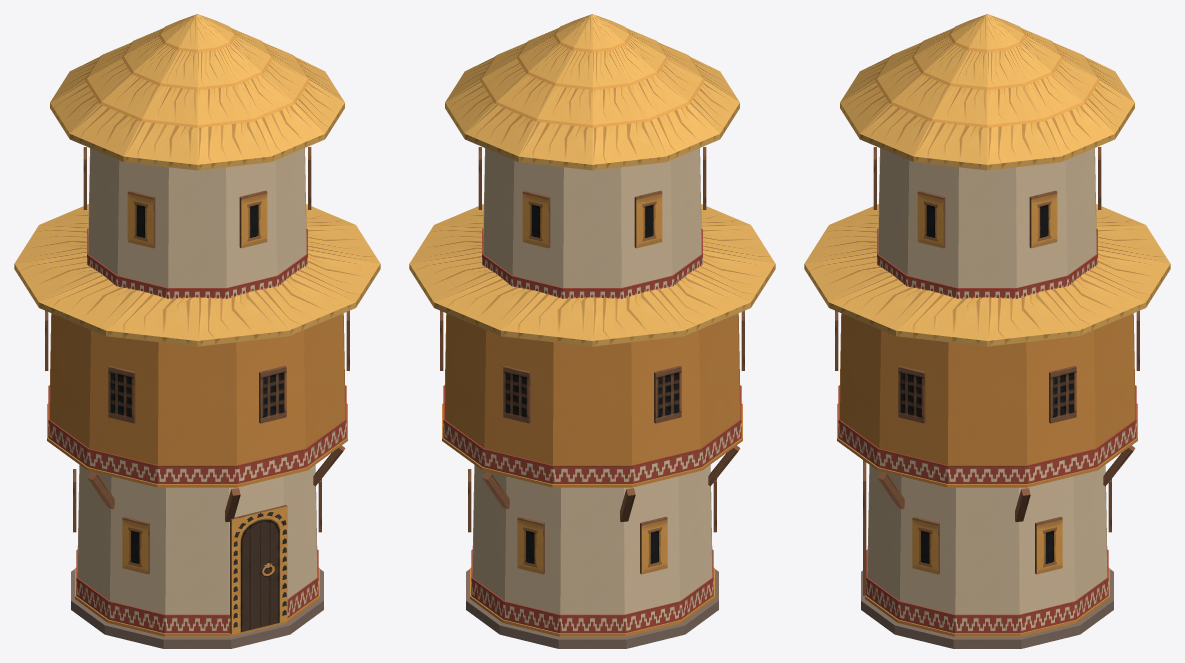
File: rc_village_hut_round_3f_overhang.glb
The picture shows the model from 3 angles, left to right: view 1: azimuth 30°, elevation 25°; view 2: azimuth 150°, elevation 25°; view 3: azimuth 270°, elevation 25°; orthographic projection.
Visible parts, largest first — view 1: SM_RC_MudHut_Round_3F_Overhang; view 2: SM_RC_MudHut_Round_3F_Overhang; view 3: SM_RC_MudHut_Round_3F_Overhang.
Boxes of the visible parts, left/top/right/bottom form: SM_RC_MudHut_Round_3F_Overhang: left=14, top=14, right=380, bottom=648; SM_RC_MudHut_Round_3F_Overhang: left=409, top=14, right=775, bottom=648; SM_RC_MudHut_Round_3F_Overhang: left=804, top=14, right=1170, bottom=648.
Size of the model in its own units: 8.24 by 14.44 by 8.24.
1 material, 1 textured.
